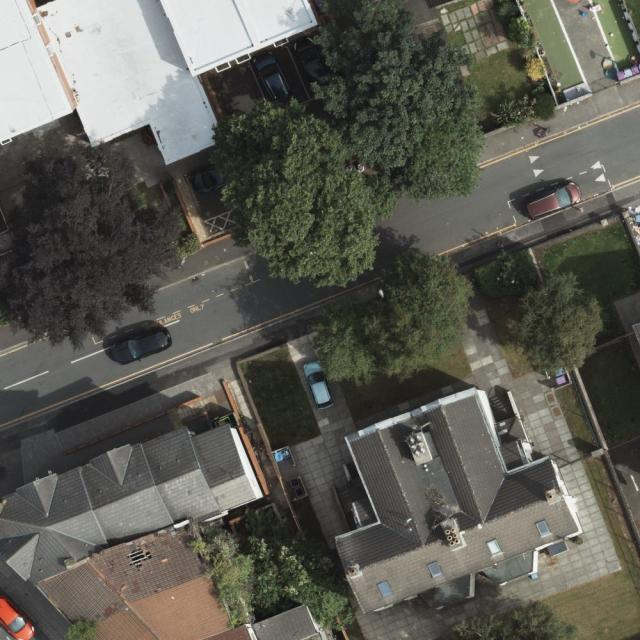roof: (0, 421, 321, 640), (338, 389, 582, 618), (0, 0, 321, 166)
skylight: (487, 536, 505, 559), (425, 558, 443, 580), (533, 518, 553, 537), (377, 580, 394, 598)
